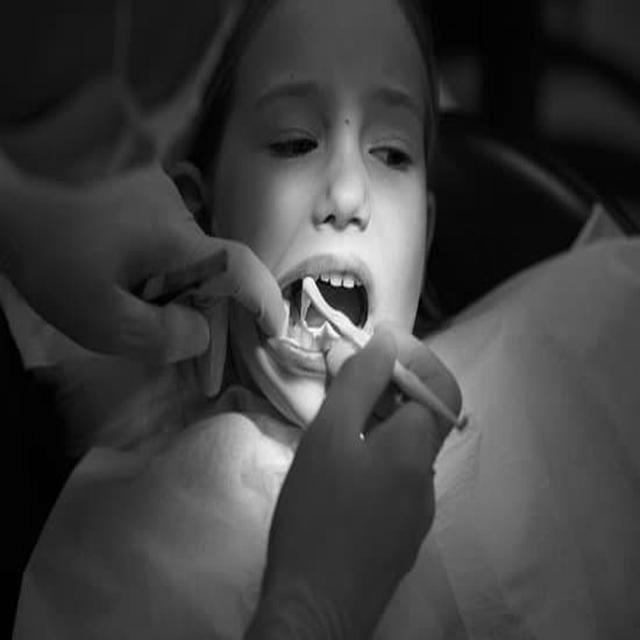Fear: (241, 9, 428, 434)
